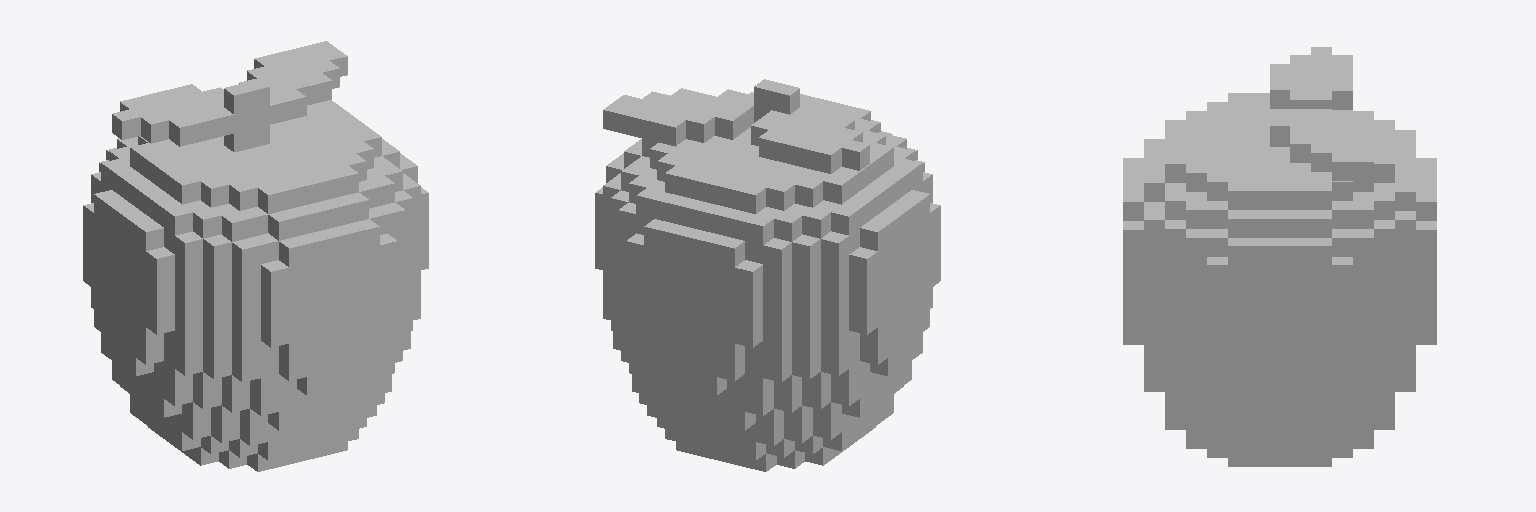
The model's file is apple.obj.
3 renders of one model, left to right at view 1: azimuth 30°, elevation 25°; view 2: azimuth 150°, elevation 25°; view 3: azimuth 270°, elevation 25°, orthographic.
Parts seen in each view (by area): view 1: object 1; view 2: object 1; view 3: object 1.
Boxes of the visible parts, x1,y1,x2,y2 form: object 1: [83, 41, 428, 471]; object 1: [595, 79, 940, 471]; object 1: [1123, 47, 1436, 466].
Bounding box in the file's own units: 1.5 × 1.8 × 1.5.